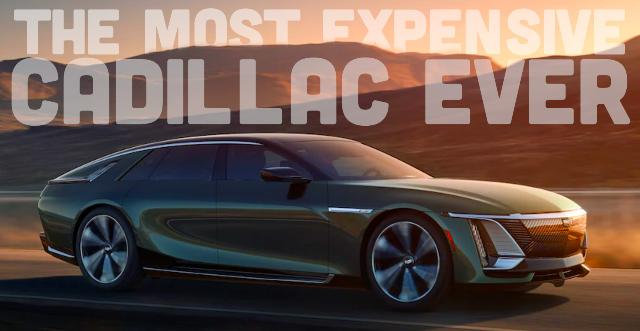cadillac: (36, 133, 590, 314)
